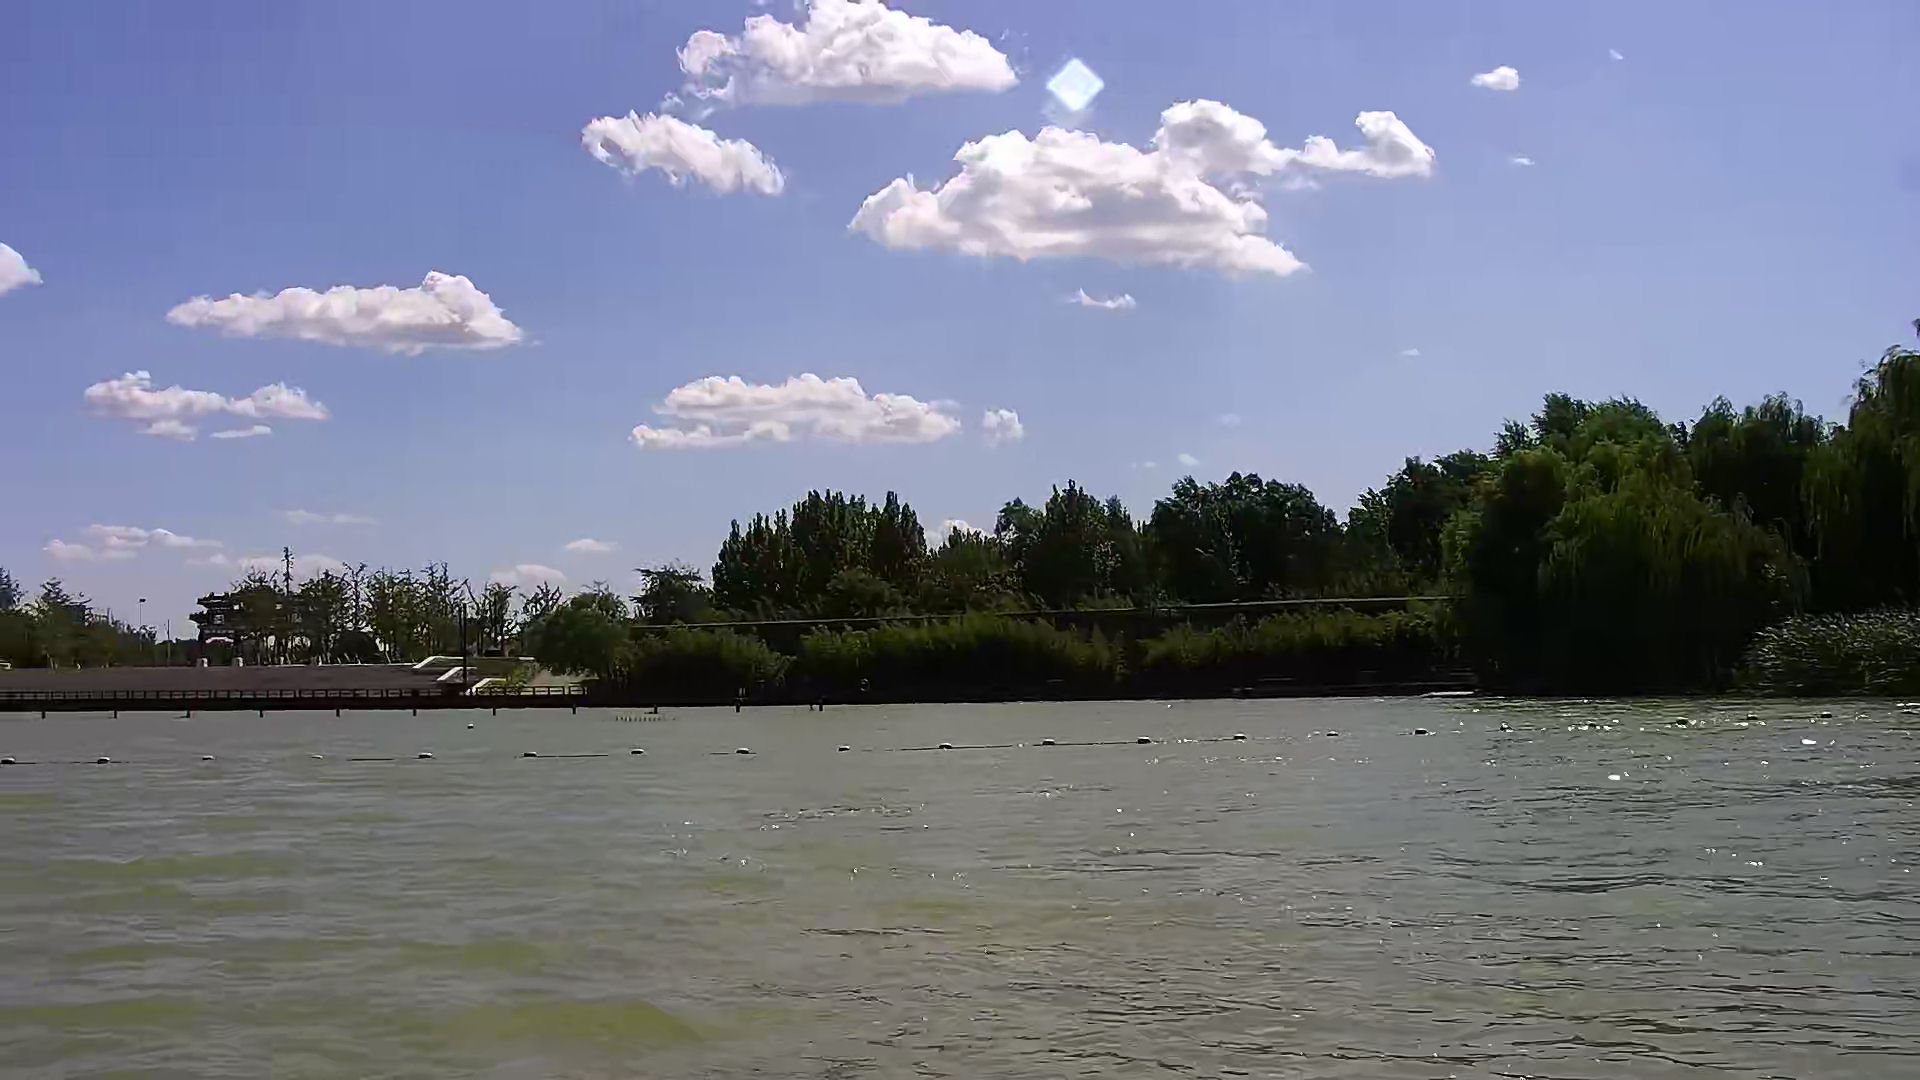ball: (514, 745, 545, 767), (1135, 731, 1160, 753), (94, 750, 117, 773), (727, 744, 760, 758)
harbor: (1, 658, 601, 709)
